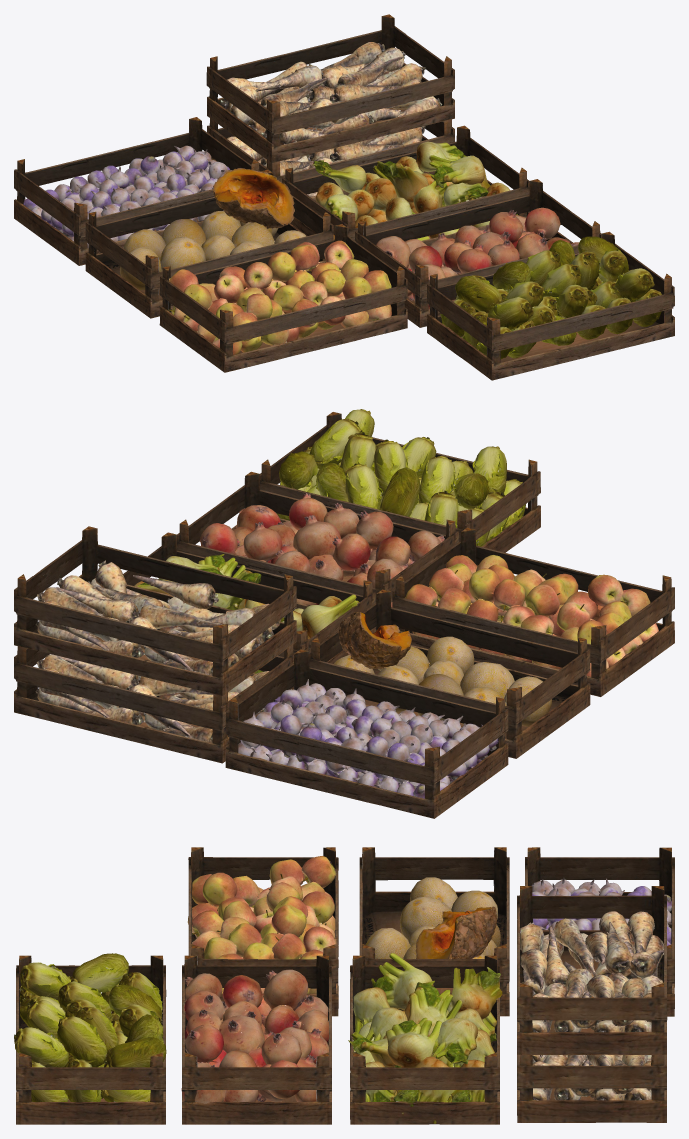
File: fruits.gltf
3 views of the same model, one above another, from view 1: azimuth 30°, elevation 25°; view 2: azimuth 150°, elevation 25°; view 3: azimuth 270°, elevation 25° (orthographic). The views are drawn at different scales.
Parts seen in each view (by area): view 1: Object_9, Object_6, Object_7, Object_5, Object_8, Object_4, Object_3; view 2: Object_9, Object_8, Object_7, Object_6, Object_5, Object_3, Object_4; view 3: Object_9, Object_6, Object_4, Object_3, Object_7, Object_5, Object_8.
Boxes of the visible parts, x1,y1,x2,y2 form: Object_9: [206, 14, 454, 200]; Object_6: [427, 231, 674, 380]; Object_7: [159, 224, 407, 372]; Object_5: [85, 168, 333, 318]; Object_8: [14, 117, 259, 265]; Object_4: [282, 125, 529, 246]; Object_3: [355, 179, 601, 327]; Object_9: [14, 526, 296, 763]; Object_8: [225, 649, 508, 818]; Object_7: [392, 527, 674, 696]; Object_6: [259, 409, 540, 566]; Object_5: [309, 589, 590, 758]; Object_3: [176, 471, 458, 631]; Object_4: [123, 532, 375, 687]; Object_9: [517, 886, 667, 1122]; Object_6: [14, 953, 166, 1124]; Object_4: [348, 953, 502, 1124]; Object_3: [181, 955, 331, 1124]; Object_7: [187, 847, 338, 1016]; Object_5: [359, 847, 509, 1016]; Object_8: [525, 847, 674, 1016].
Bounding box in the file's own units: 212 × 63.56 × 280.
